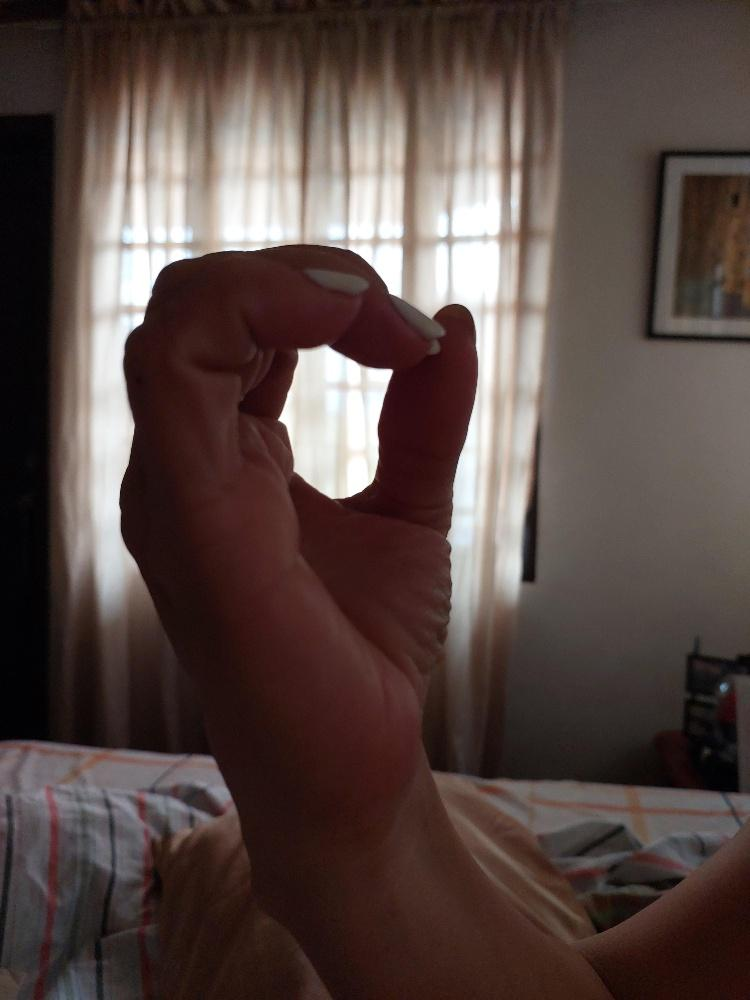o: (108, 231, 481, 820)
